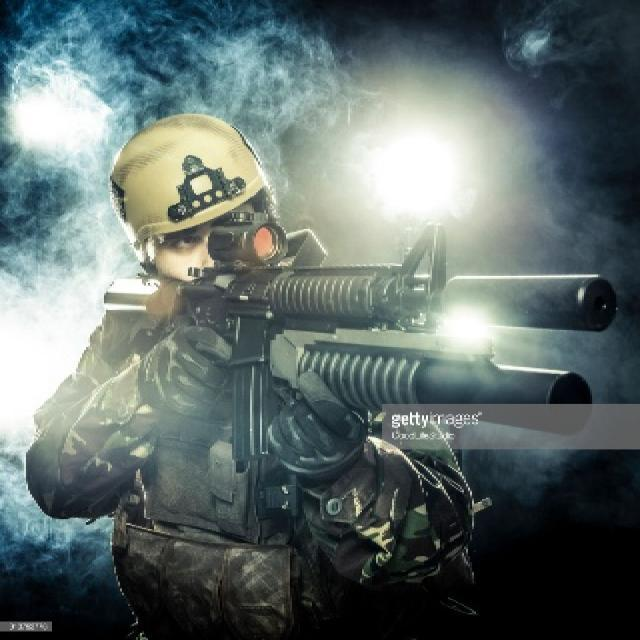weapon: (98, 209, 622, 437)
